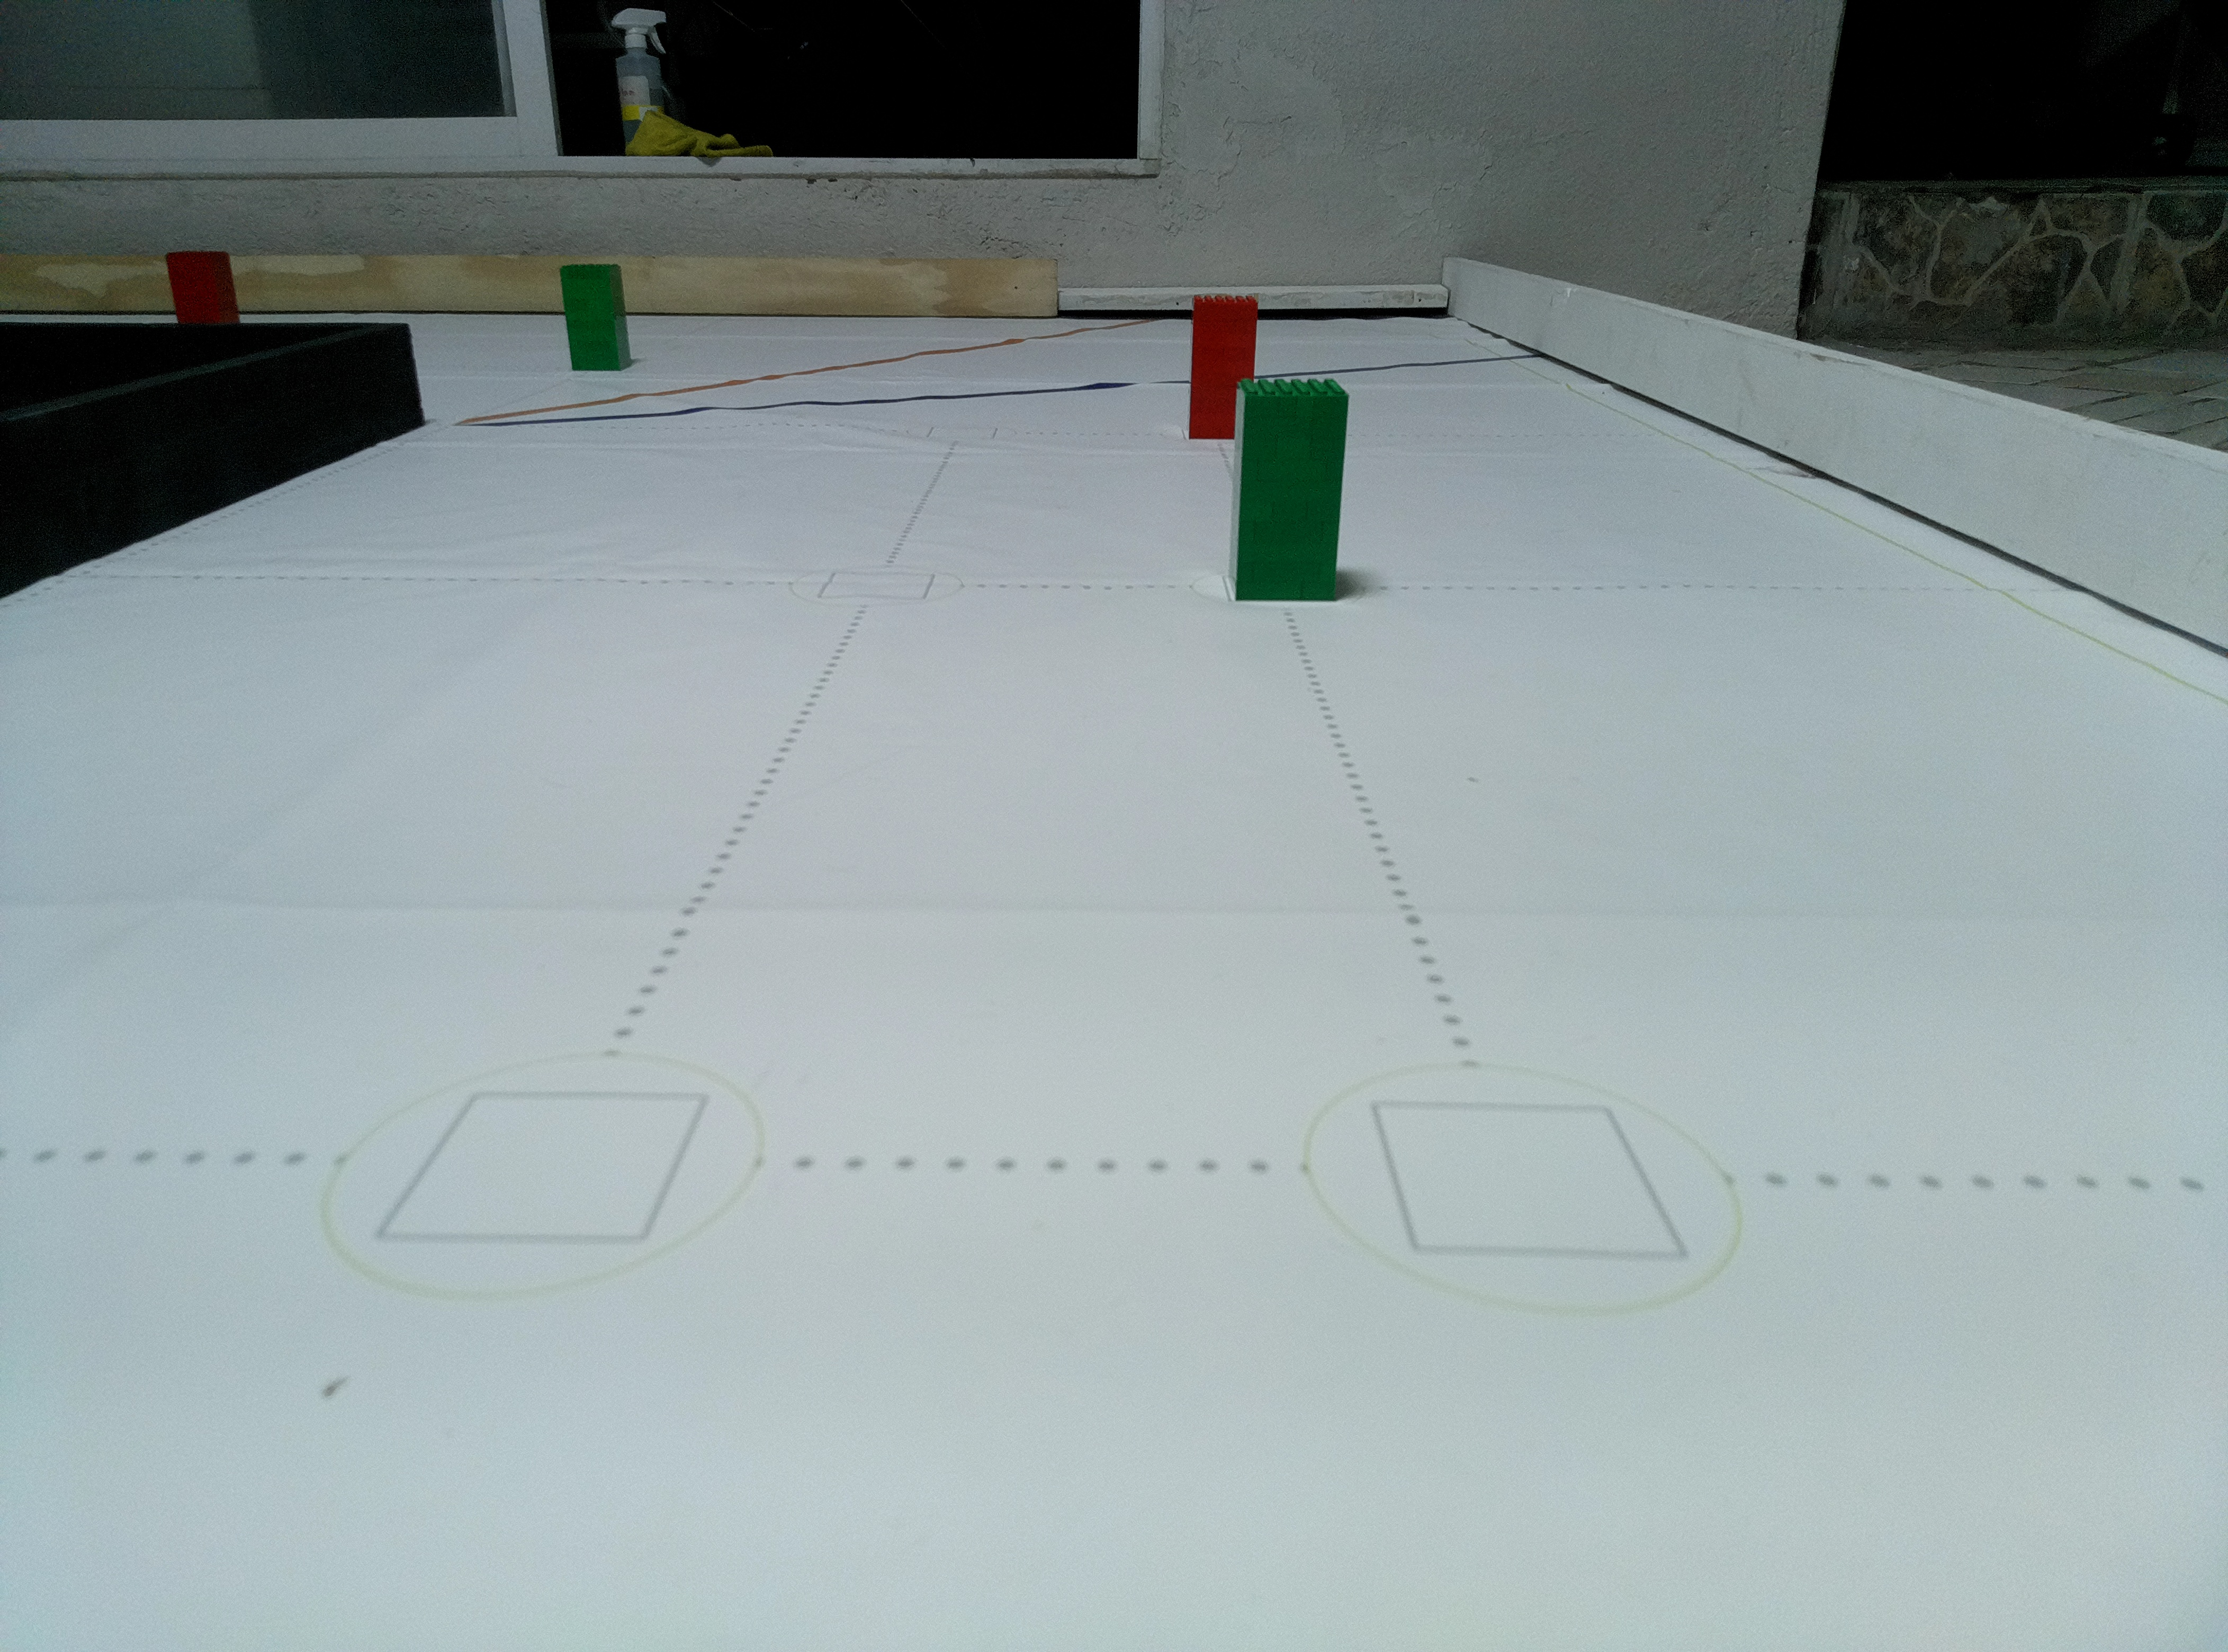greenbox: (1222, 377, 1350, 604), (557, 262, 633, 375)
redbox: (1185, 292, 1260, 442), (163, 250, 243, 324)
